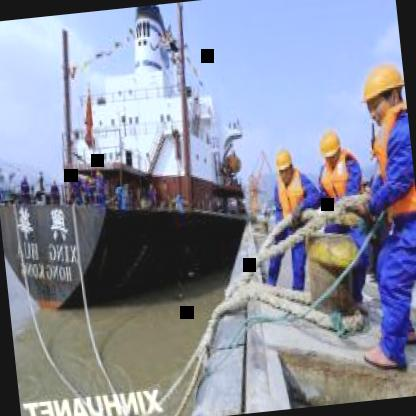helmet: (356, 58, 408, 132), (316, 128, 346, 173), (272, 143, 298, 186)
